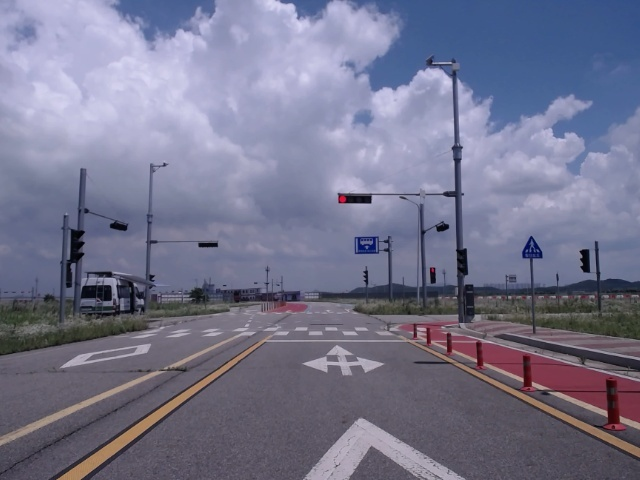red_4: (338, 195, 372, 203)
